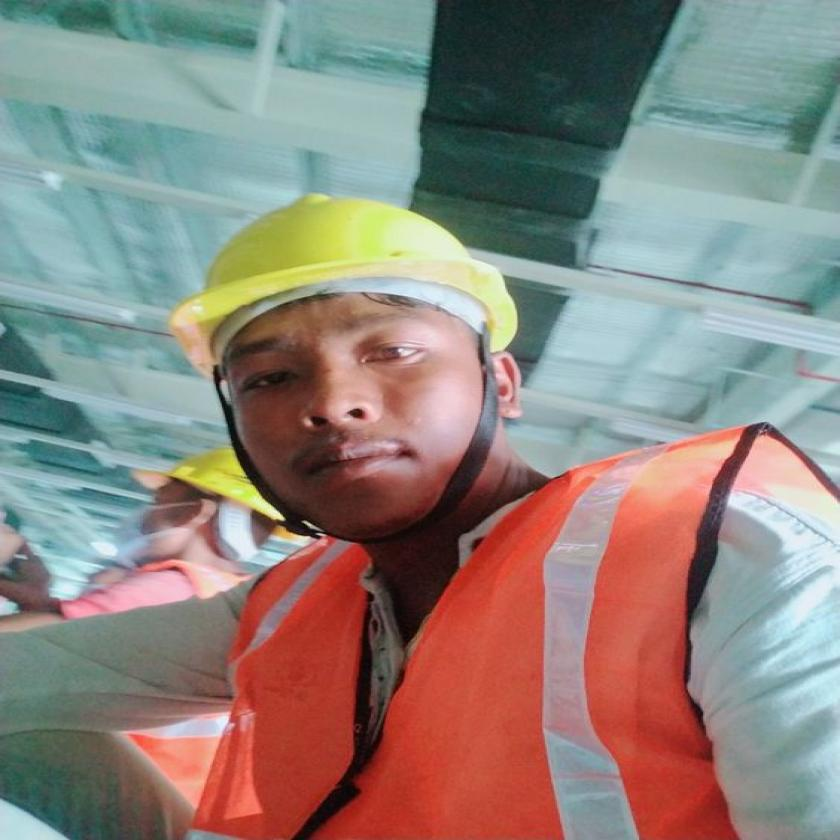Con_casco: (179, 196, 621, 538), (95, 442, 268, 596)
